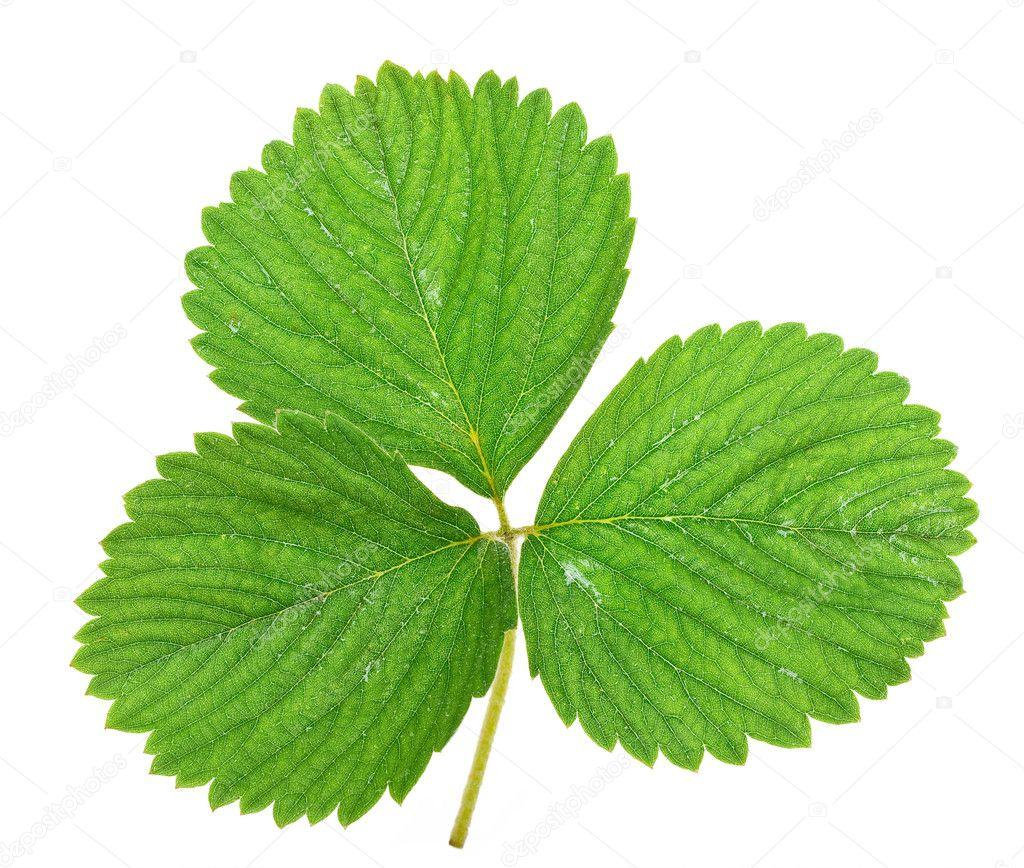Strawberry leaf: (511, 276, 980, 788), (47, 409, 591, 825), (180, 55, 642, 505)
